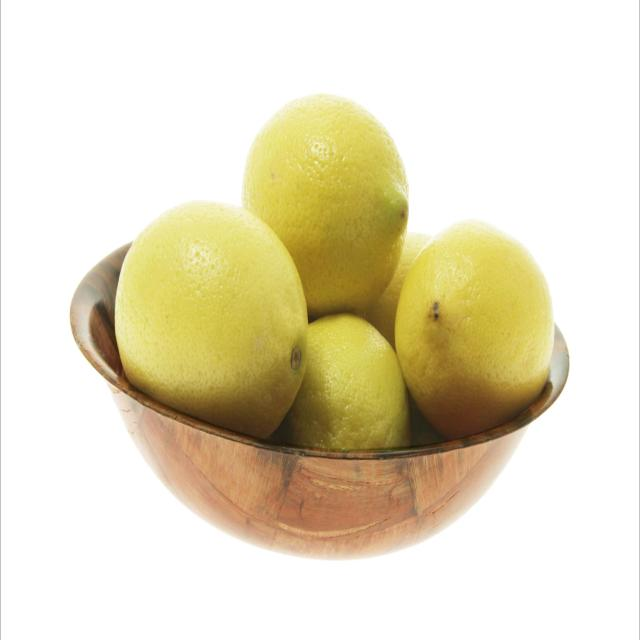lemon: (110, 196, 312, 442), (391, 214, 558, 447)
